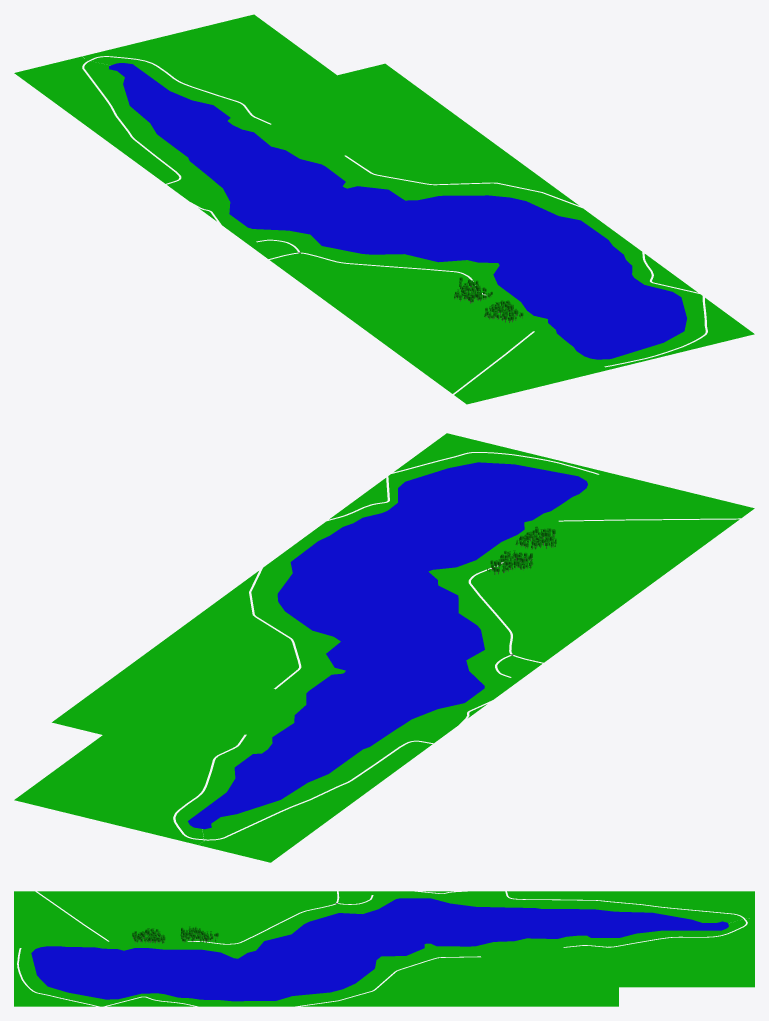
File: farlain.dae
The picture shows the model from 3 angles, top to bottom: view 1: azimuth 30°, elevation 25°; view 2: azimuth 150°, elevation 25°; view 3: azimuth 270°, elevation 25°; orthographic projection. The views are drawn at different scales.
Parts seen in each view (by area): view 1: Water Farlain Lake, SurfaceArea97, SurfaceArea96, SurfaceArea122, SurfaceArea123, SurfaceArea121, SurfaceArea98, SurfaceArea95, SurfaceArea120, SurfaceArea124, SurfaceArea105, SurfaceArea104 (+23 smaller); view 2: Water Farlain Lake, SurfaceArea96, SurfaceArea97, SurfaceArea122, SurfaceArea123, SurfaceArea121, SurfaceArea95, SurfaceArea98, SurfaceArea120, SurfaceArea105, SurfaceArea124, SurfaceArea104 (+23 smaller); view 3: Water Farlain Lake, SurfaceArea96, SurfaceArea121, SurfaceArea97, SurfaceArea122, SurfaceArea123, SurfaceArea120, SurfaceArea95, SurfaceArea98, SurfaceArea124, SurfaceArea105, SurfaceArea104 (+25 smaller).
Part boxes in pixels (x1,y1,x2,y2): Water Farlain Lake: (109,63,686,359); SurfaceArea97: (328,283,453,336); SurfaceArea96: (375,317,500,370); SurfaceArea122: (257,75,382,128); SurfaceArea123: (211,41,336,94); SurfaceArea121: (304,109,428,162); SurfaceArea98: (282,252,407,302); SurfaceArea95: (421,351,546,404); SurfaceArea120: (350,143,475,195); SurfaceArea124: (174,14,290,60); SurfaceArea105: (501,336,626,384); SurfaceArea104: (14,53,124,99); Water Farlain Lake: (188,462,587,829); SurfaceArea96: (571,523,705,580); SurfaceArea97: (521,560,655,616); SurfaceArea122: (103,699,237,755); SurfaceArea123: (54,735,187,791); SurfaceArea121: (152,663,286,719); SurfaceArea95: (620,487,754,544); SurfaceArea98: (479,596,606,652); SurfaceArea120: (202,626,333,683); SurfaceArea105: (556,466,668,523); SurfaceArea124: (14,771,138,820); SurfaceArea104: (185,815,309,862); Water Farlain Lake: (31,898,728,1001); SurfaceArea96: (89,891,165,923); SurfaceArea121: (467,955,543,987); SurfaceArea97: (165,891,240,923); SurfaceArea122: (543,955,618,987); SurfaceArea123: (619,955,694,987); SurfaceArea120: (392,955,467,987); SurfaceArea95: (14,891,89,923); SurfaceArea98: (241,891,316,923); SurfaceArea124: (694,955,754,987); SurfaceArea105: (14,923,89,955); SurfaceArea104: (694,891,754,923).
Bounding box in the file's own units: 1080 × 2940 × 24.99.
